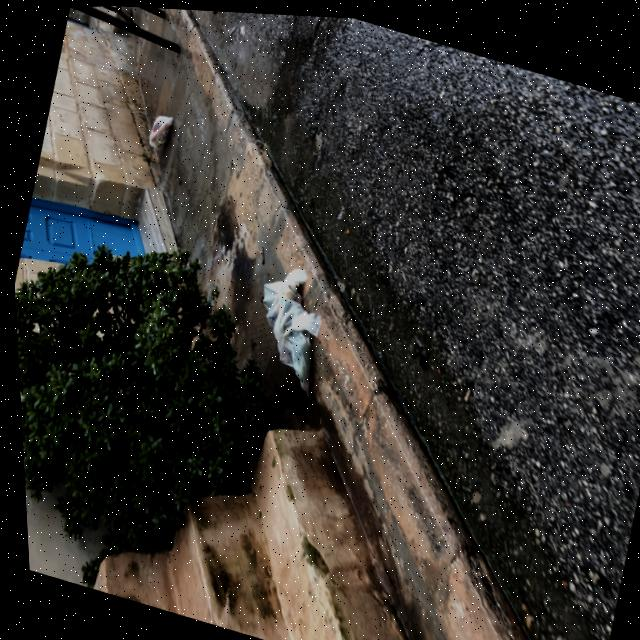Organic Waste -White Bag-: (253, 288, 330, 395), (246, 253, 314, 350), (144, 106, 177, 153)
